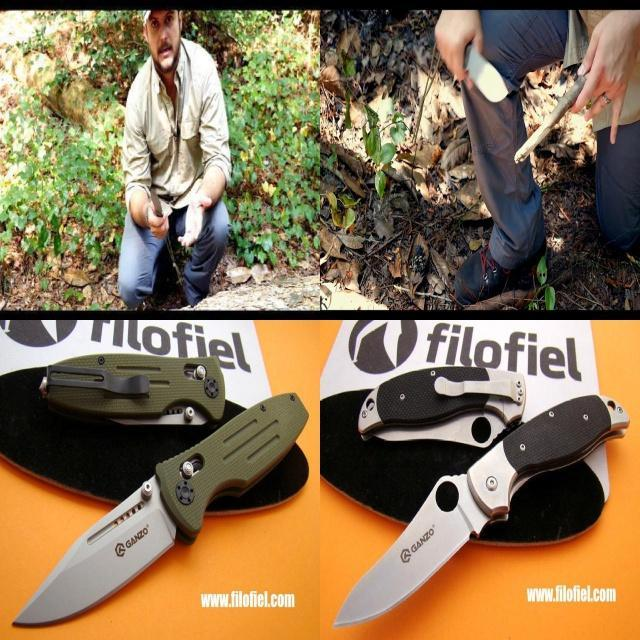-: (324, 465, 497, 632), (7, 471, 180, 633), (444, 28, 510, 107), (148, 185, 168, 240)
